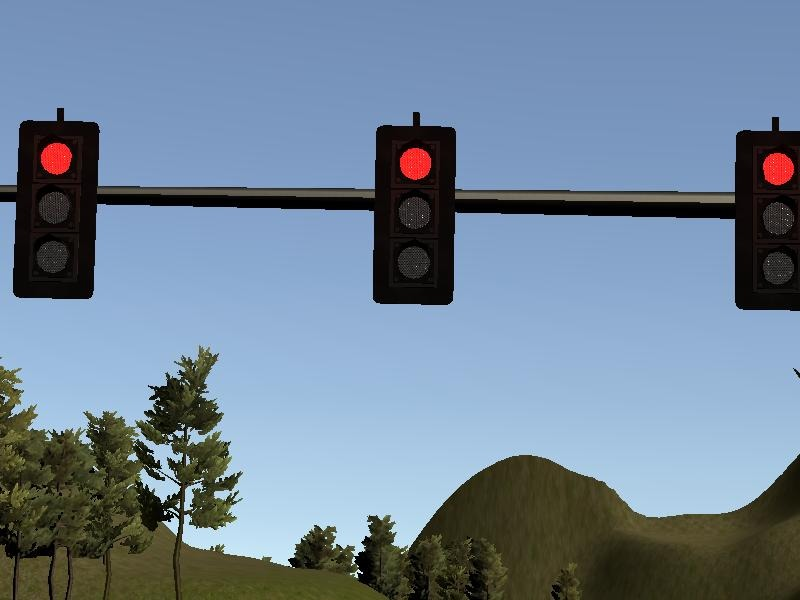red: (14, 120, 98, 299), (373, 126, 457, 305)
